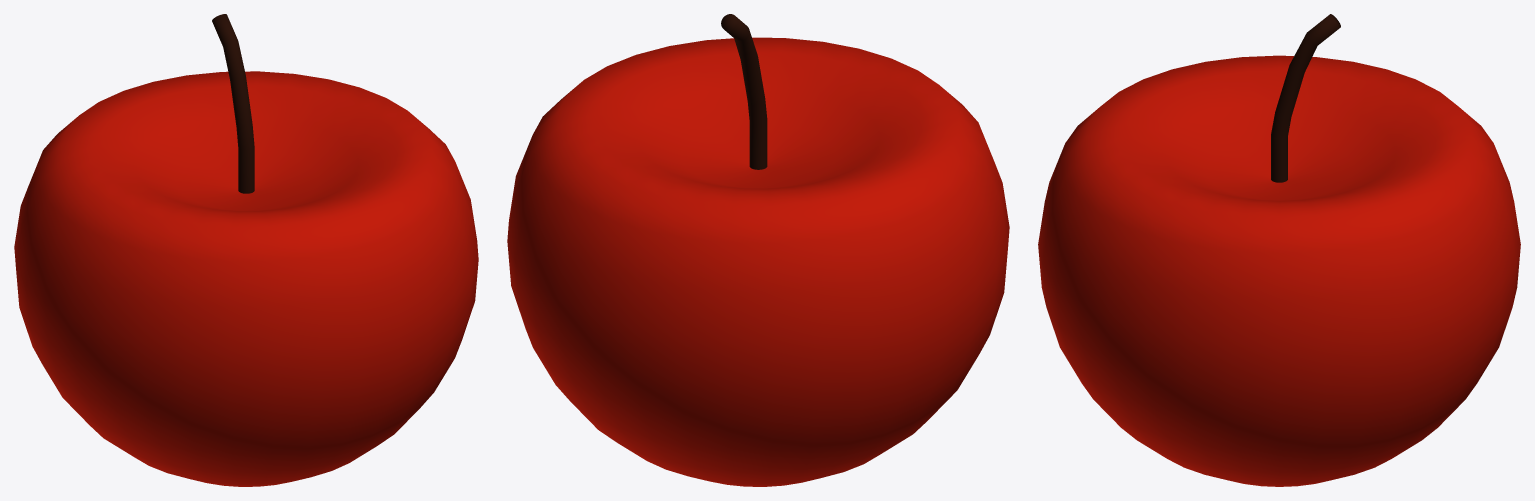
The model's file is apple.fbx.
3 renders of one model, left to right at view 1: azimuth 30°, elevation 25°; view 2: azimuth 150°, elevation 25°; view 3: azimuth 270°, elevation 25°, orthographic. The views are drawn at different scales.
Parts seen in each view (by area): view 1: Sphere, Sphere.001; view 2: Sphere, Sphere.001; view 3: Sphere, Sphere.001.
Part boxes in pixels (x1=…): Sphere: x1=14, y1=71, x2=478, y2=486; Sphere.001: x1=212, y1=14, x2=254, y2=193; Sphere: x1=507, y1=37, x2=1009, y2=486; Sphere.001: x1=721, y1=14, x2=767, y2=169; Sphere: x1=1038, y1=55, x2=1520, y2=486; Sphere.001: x1=1271, y1=14, x2=1340, y2=182.
Size of the model in its own units: 199 by 205 by 199.
